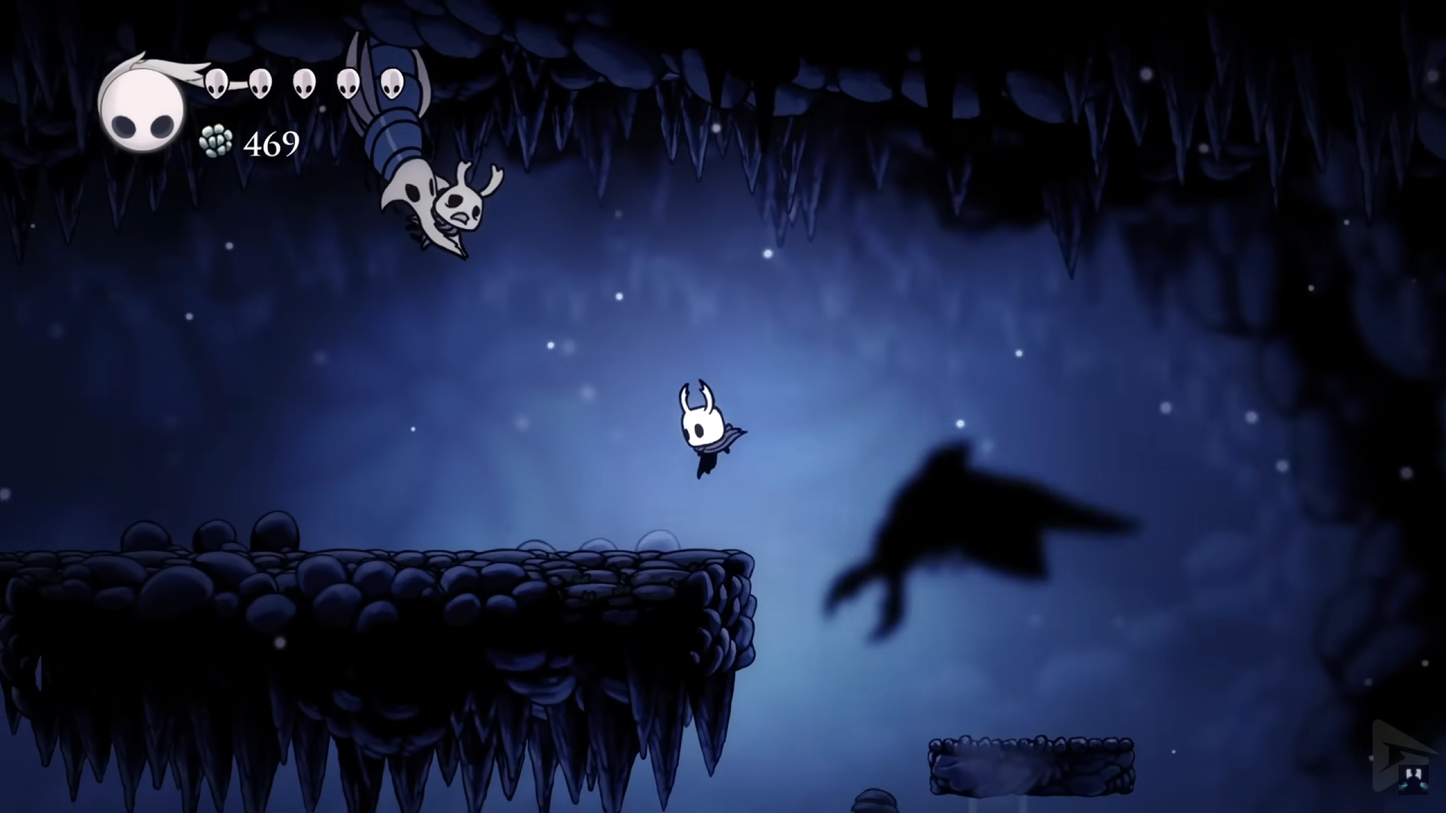HK: (677, 376, 734, 483)
